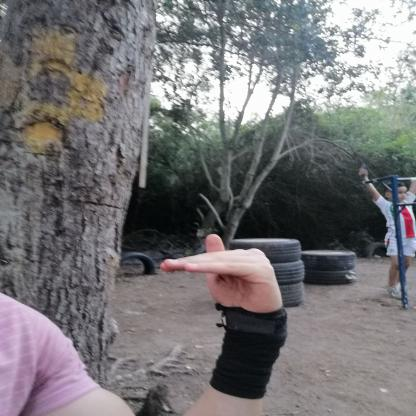KHAA: (149, 226, 296, 324)
